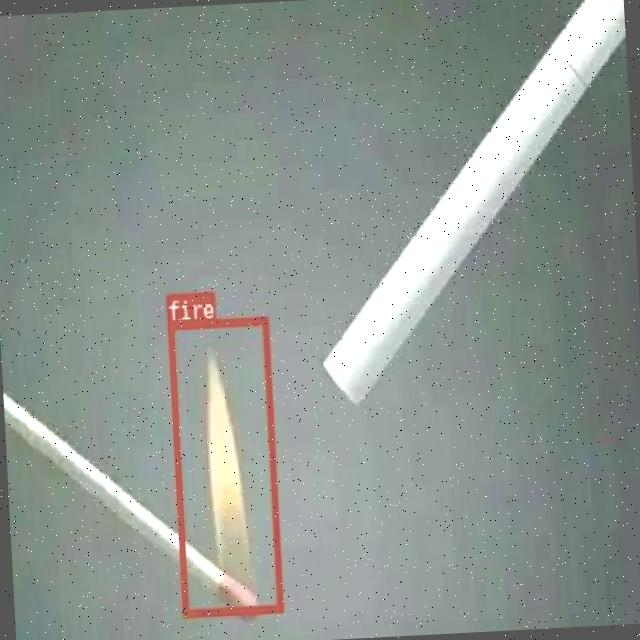fire: (166, 316, 283, 616)
